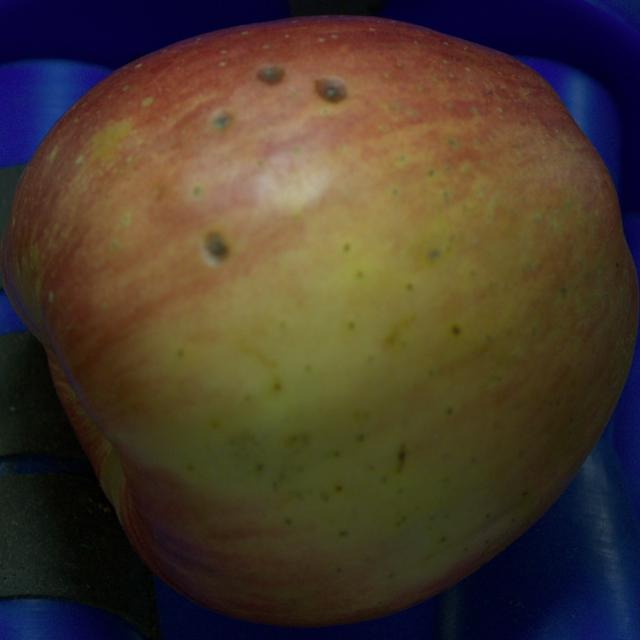apple: (0, 17, 638, 626)
pest: (204, 232, 228, 264), (316, 78, 346, 102), (258, 64, 284, 83), (213, 114, 231, 129)
